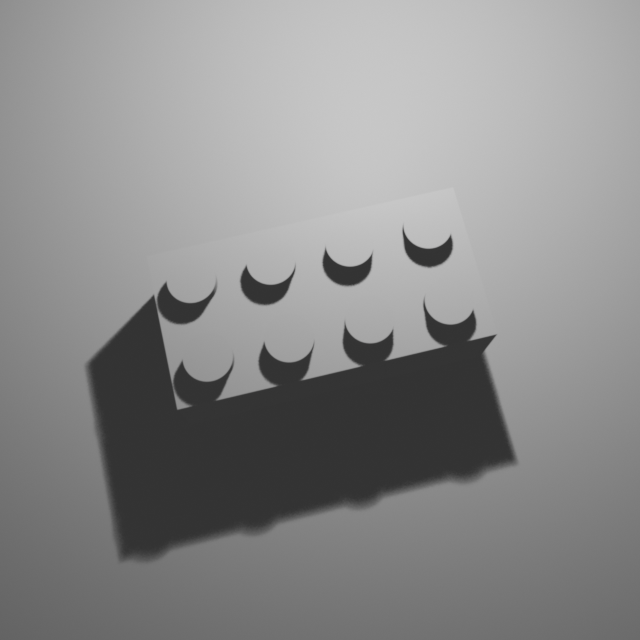lego_2x4: (144, 181, 501, 425)
